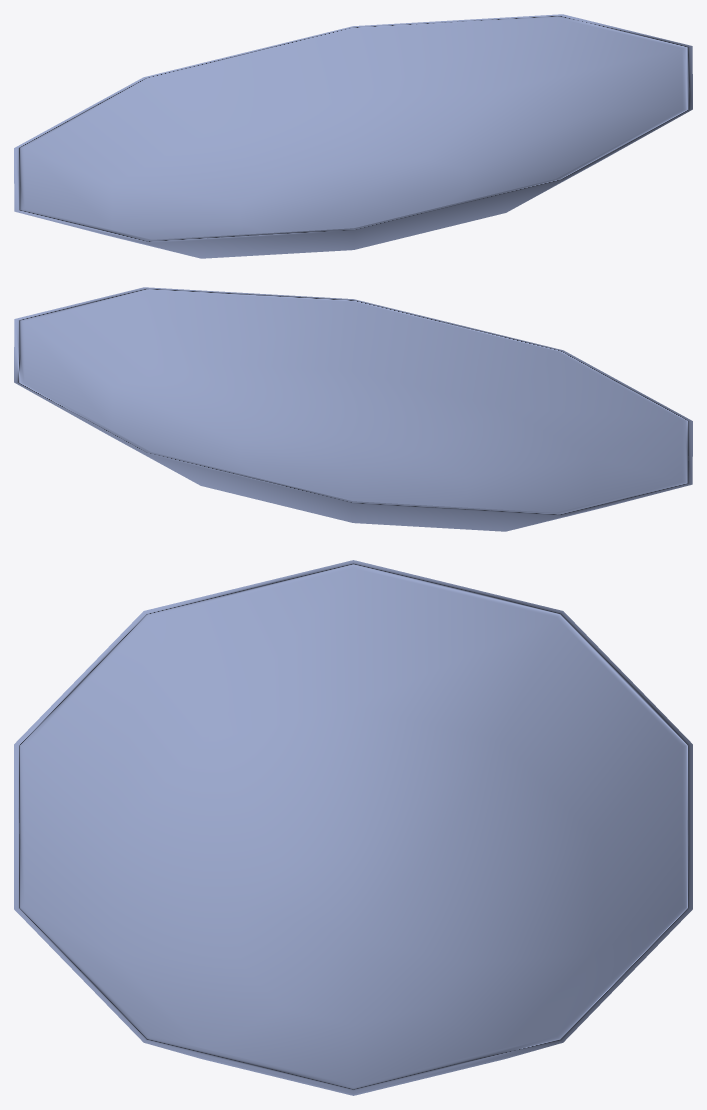
The model's file is bowl.fbx.
The picture shows the model from 3 angles, top to bottom: view 1: azimuth 30°, elevation 25°; view 2: azimuth 150°, elevation 25°; view 3: azimuth 270°, elevation 25°; orthographic projection. The views are drawn at different scales.
Parts seen in each view (by area): view 1: diiner_objects_1:dner_objects:pSphere2; view 2: diiner_objects_1:dner_objects:pSphere2; view 3: diiner_objects_1:dner_objects:pSphere2.
Boxes of the visible parts, x1,y1,x2,y2 form: diiner_objects_1:dner_objects:pSphere2: (14, 14, 692, 258); diiner_objects_1:dner_objects:pSphere2: (14, 287, 692, 531); diiner_objects_1:dner_objects:pSphere2: (14, 560, 692, 1095).
Bounding box in the file's own units: 4.9 × 0.6006 × 2.64.
